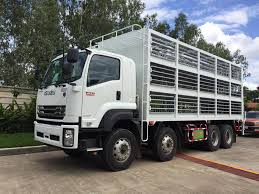truck: (34, 25, 243, 171)
